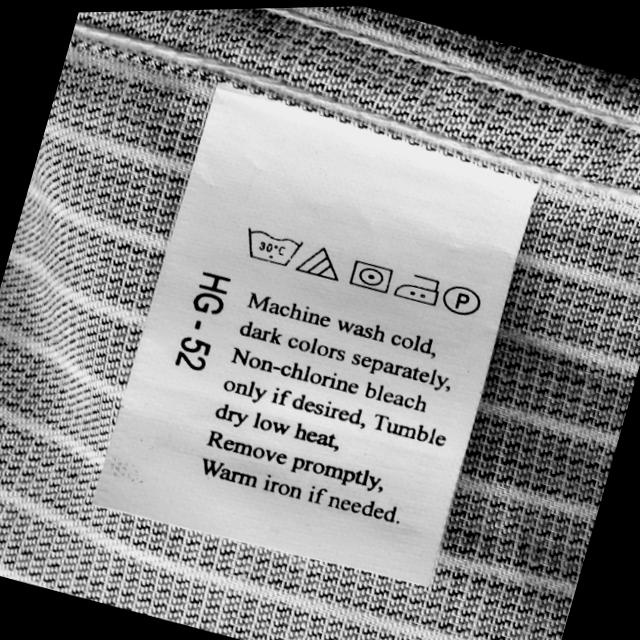30C: (241, 226, 303, 269)
dry_clean_any_solvent_except_trichloroethylene: (442, 283, 479, 317)
iron_medium: (393, 268, 442, 308)
non_chlorine_bleach: (295, 244, 339, 283)
tumble_dry_low: (346, 256, 394, 294)
